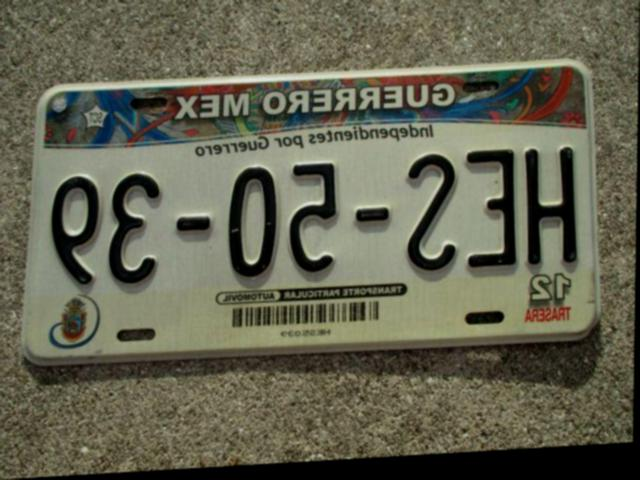License_Plate: (9, 44, 608, 394)
